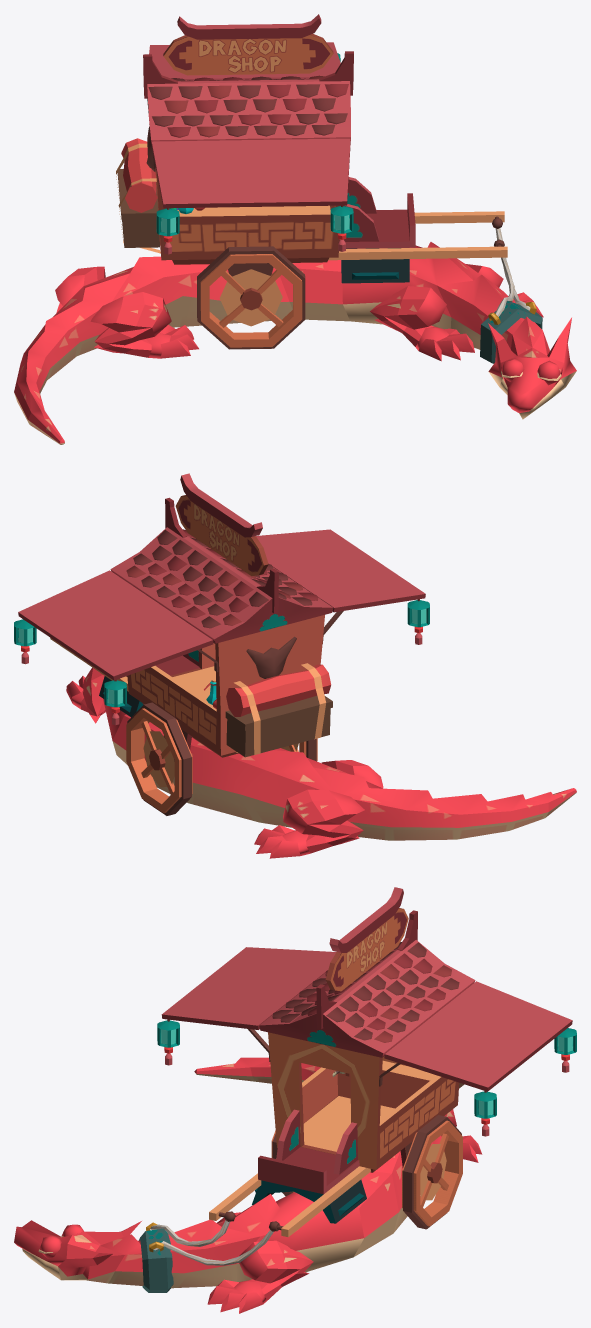
File: Carrito_Dragon_Armas.obj
The picture shows the model from 3 angles, top to bottom: view 1: azimuth 30°, elevation 25°; view 2: azimuth 150°, elevation 25°; view 3: azimuth 270°, elevation 25°; orthographic projection. The views are drawn at different scales.
Parts seen in each view (by area): view 1: Carrito TODO, TODO Dragon; view 2: Carrito TODO, TODO Dragon; view 3: Carrito TODO, TODO Dragon.
Boxes of the visible parts, box(x1,y1,x2,y2) form: Carrito TODO: box(116, 14, 507, 349); TODO Dragon: box(14, 228, 576, 444); Carrito TODO: box(14, 473, 429, 815); TODO Dragon: box(66, 667, 576, 858); Carrito TODO: box(157, 887, 576, 1237); TODO Dragon: box(14, 1057, 482, 1313).
Bounding box in the file's own units: 8.26 × 4.9 × 8.18.
10 materials, 10 textured.
